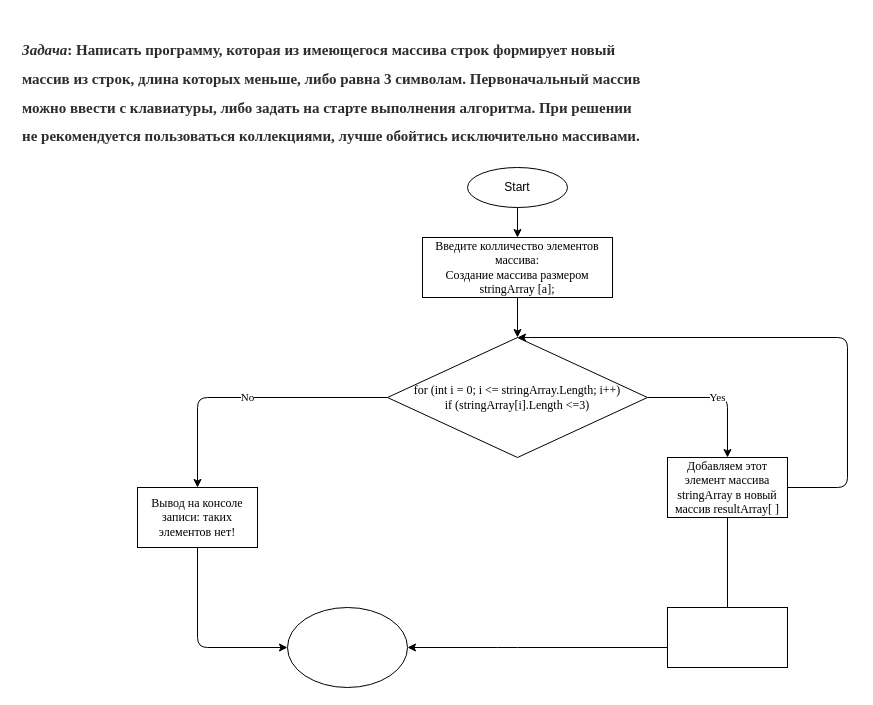
This 873x705 diagram has some shape labels left out. The shapes that lost their labels are listed below. From the top down, each one's centre as x and y in pixels, then its label:
(x=347, y=647): Exit
(x=727, y=637): print(resultArray[ ])
